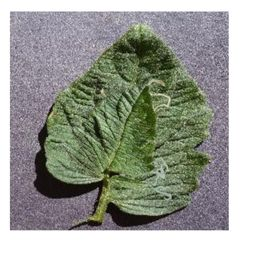liriomyza: (150, 156, 173, 200), (147, 78, 172, 111)
